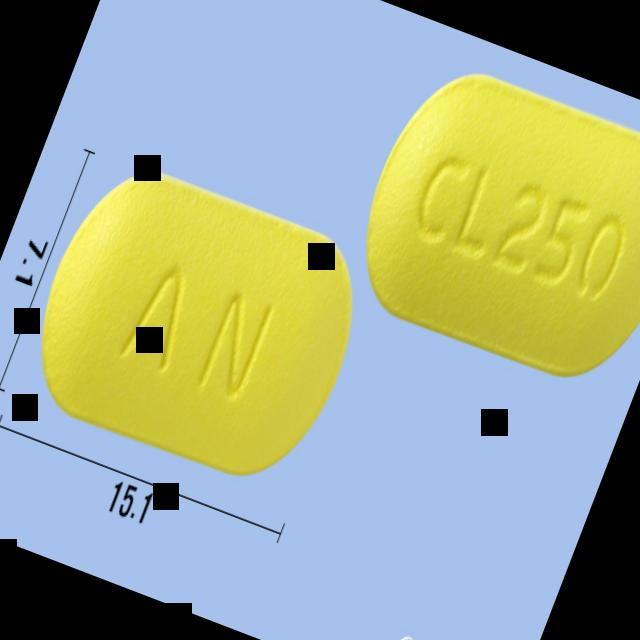Clararoxin: (11, 150, 386, 500), (334, 52, 640, 402)
